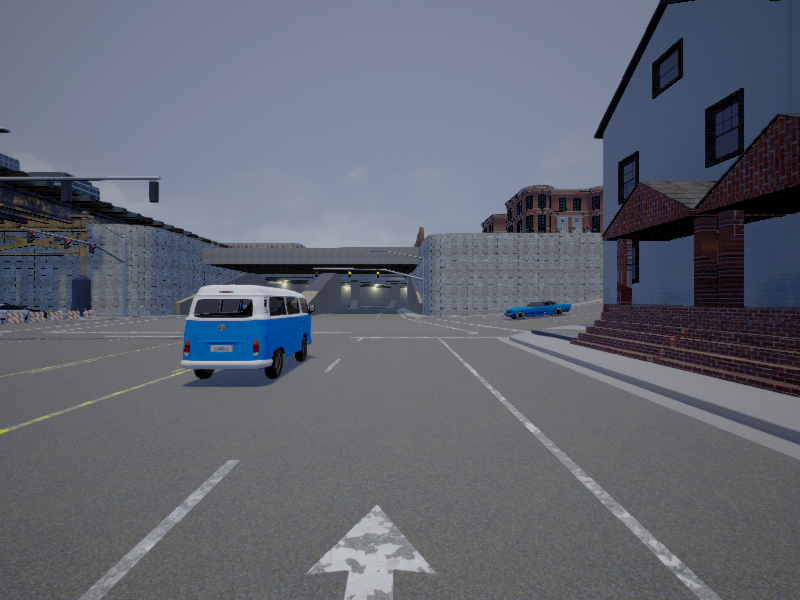Benign: (182, 285, 315, 378), (506, 298, 573, 323)
